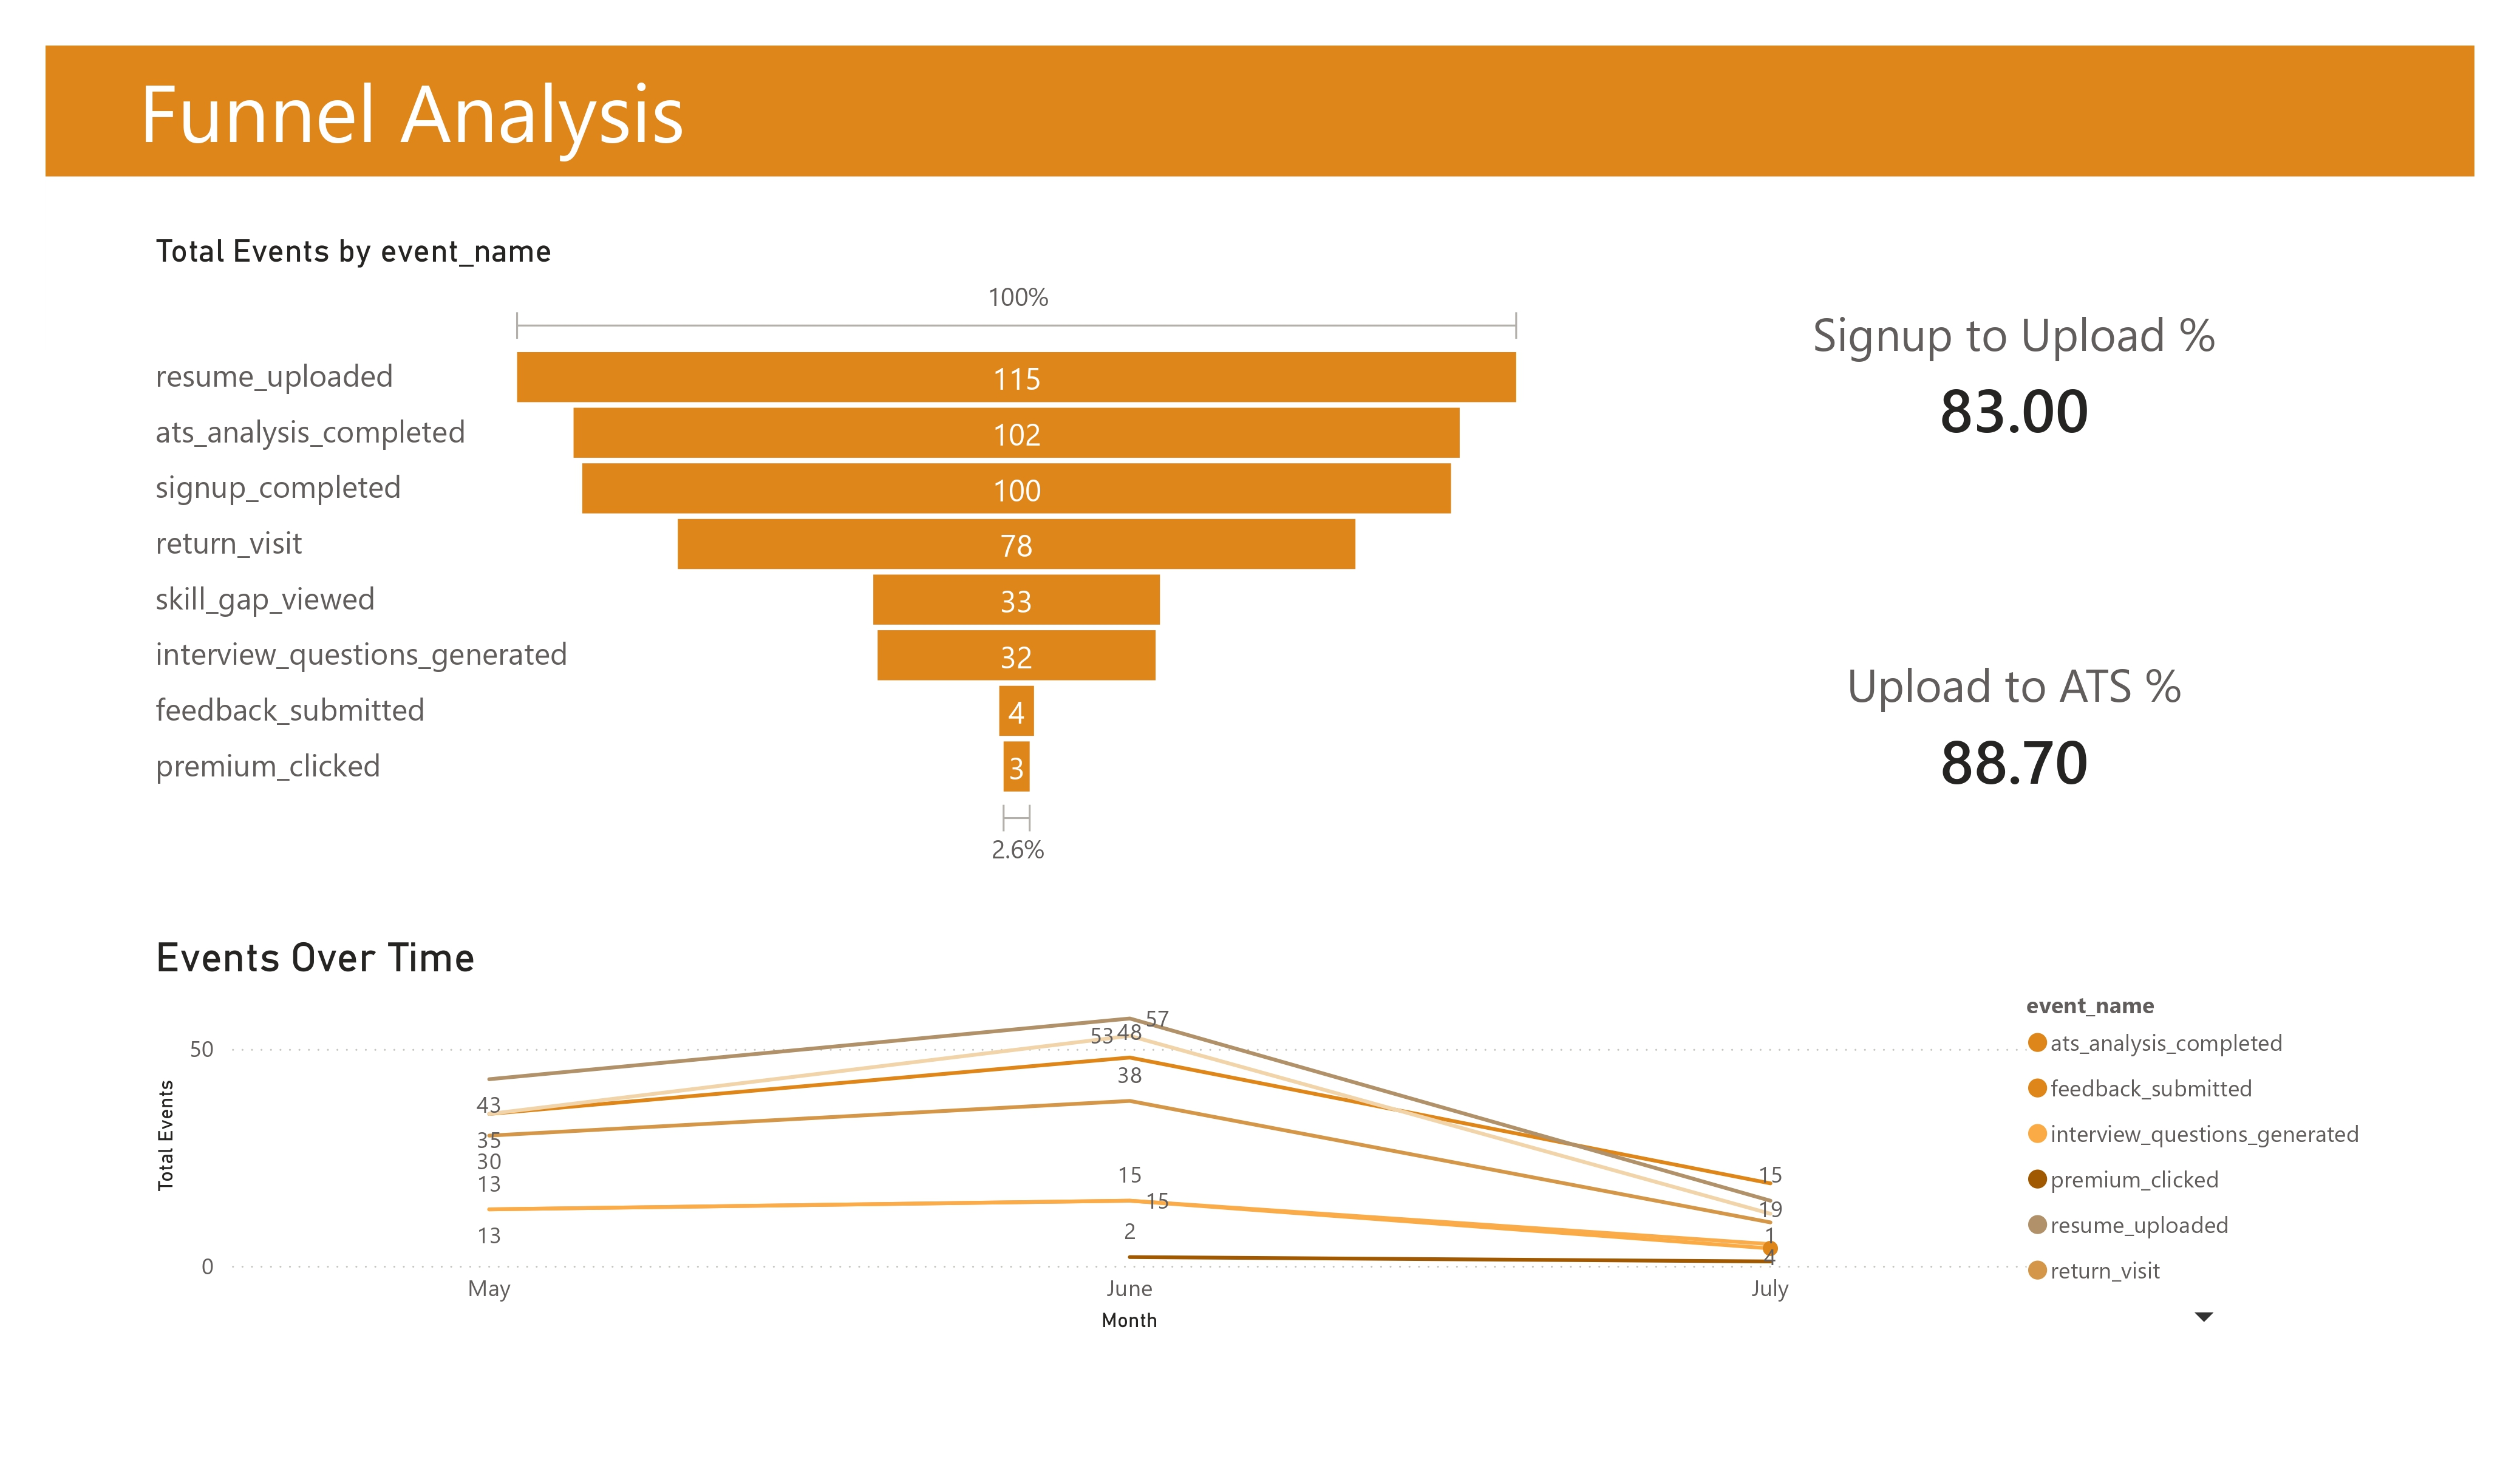

What the dashboard file says about the page in this screenshot:
{"tool":"powerbi","page":{"name":"Funnel","canvas":[1280,720],"ordinal":2},"visuals":[{"type":"textbox","box":[0,0,1280,68.8],"z":0},{"type":"cardVisual","fields":{"Data":["users.Signup to Upload %"]},"box":[836.2,92.5,402.5,160],"z":1000},{"type":"cardVisual","fields":{"Data":["users.Upload to ATS %"]},"box":[836.2,272.5,402.5,170],"z":2000},{"type":"lineChart","title":"Events Over Time","fields":{"Category":["users.created_at.Variation.Date Hierarchy.Month"],"Series":["events.event_name"],"Y":["users.Total Events"]},"box":[47.5,462.5,1191.2,225],"z":3000},{"type":"funnel","fields":{"Category":["events.event_name"],"Y":["users.Total Events"]},"box":[47.5,92.5,742.5,350],"z":4000}]}

Visuals, with their boxes on the page's 1280x720 design canvas (x1, y1, x2, y2). These are canvas units, not pixel positions in the 2520x1457 screenshot, which may show the page scaled, cropped or inside an application window:
textbox: <box>0,0,1280,69</box>
cardVisual - users.Signup to Upload %: <box>836,92,1239,252</box>
cardVisual - users.Upload to ATS %: <box>836,272,1239,442</box>
"Events Over Time" lineChart: <box>48,462,1239,688</box>
funnel - events.event_name x users.Total Events: <box>48,92,790,442</box>
